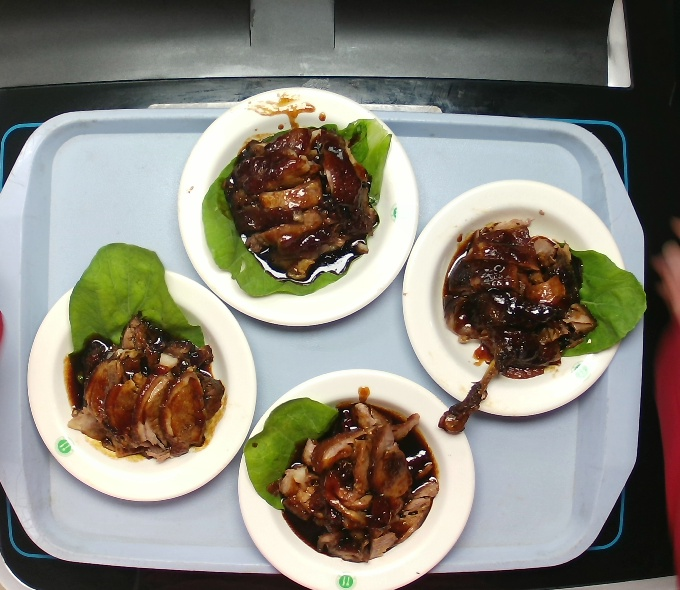wcq-MiZhiYa: (46, 218, 233, 486), (249, 379, 450, 571), (430, 213, 635, 390), (207, 106, 390, 292)
